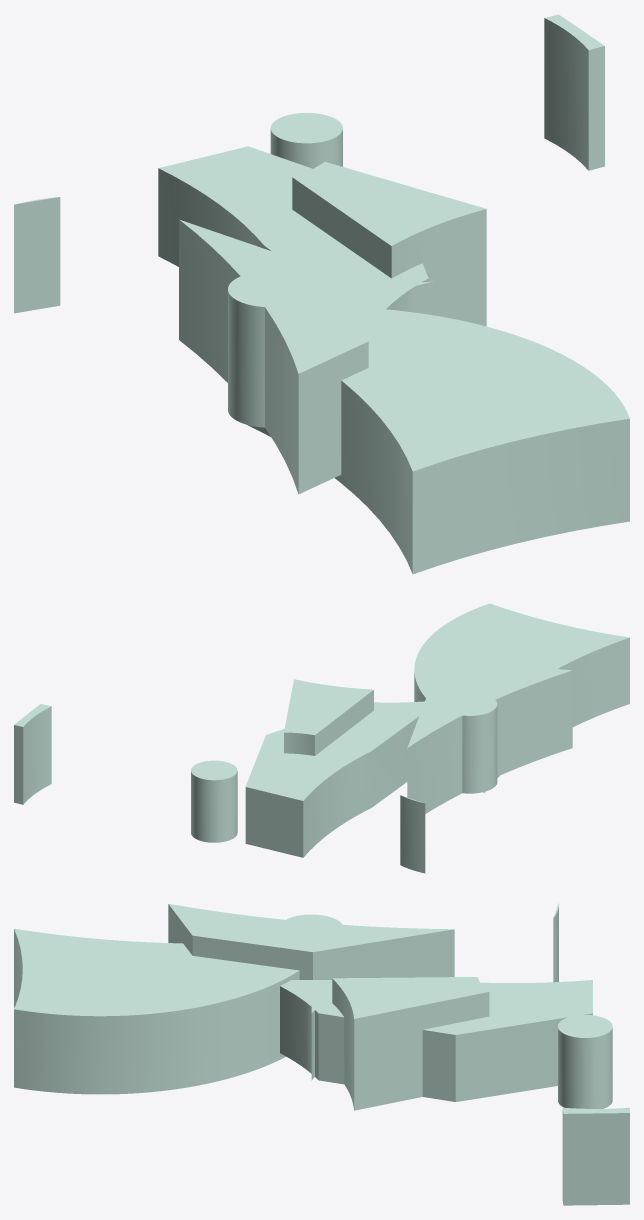
3 views of the same model, one above another, from view 1: azimuth 30°, elevation 25°; view 2: azimuth 150°, elevation 25°; view 3: azimuth 270°, elevation 25° (orthographic). The views are drawn at different scales.
Parts seen in each view (by area): view 1: Renderer Node; view 2: Renderer Node; view 3: Renderer Node.
Boxes of the visible parts, bbox=[...] form: Renderer Node: bbox=[14, 14, 629, 574]; Renderer Node: bbox=[14, 603, 629, 873]; Renderer Node: bbox=[14, 903, 629, 1205].
Bounding box in the file's own units: 1.65 × 0.3438 × 1.95.
